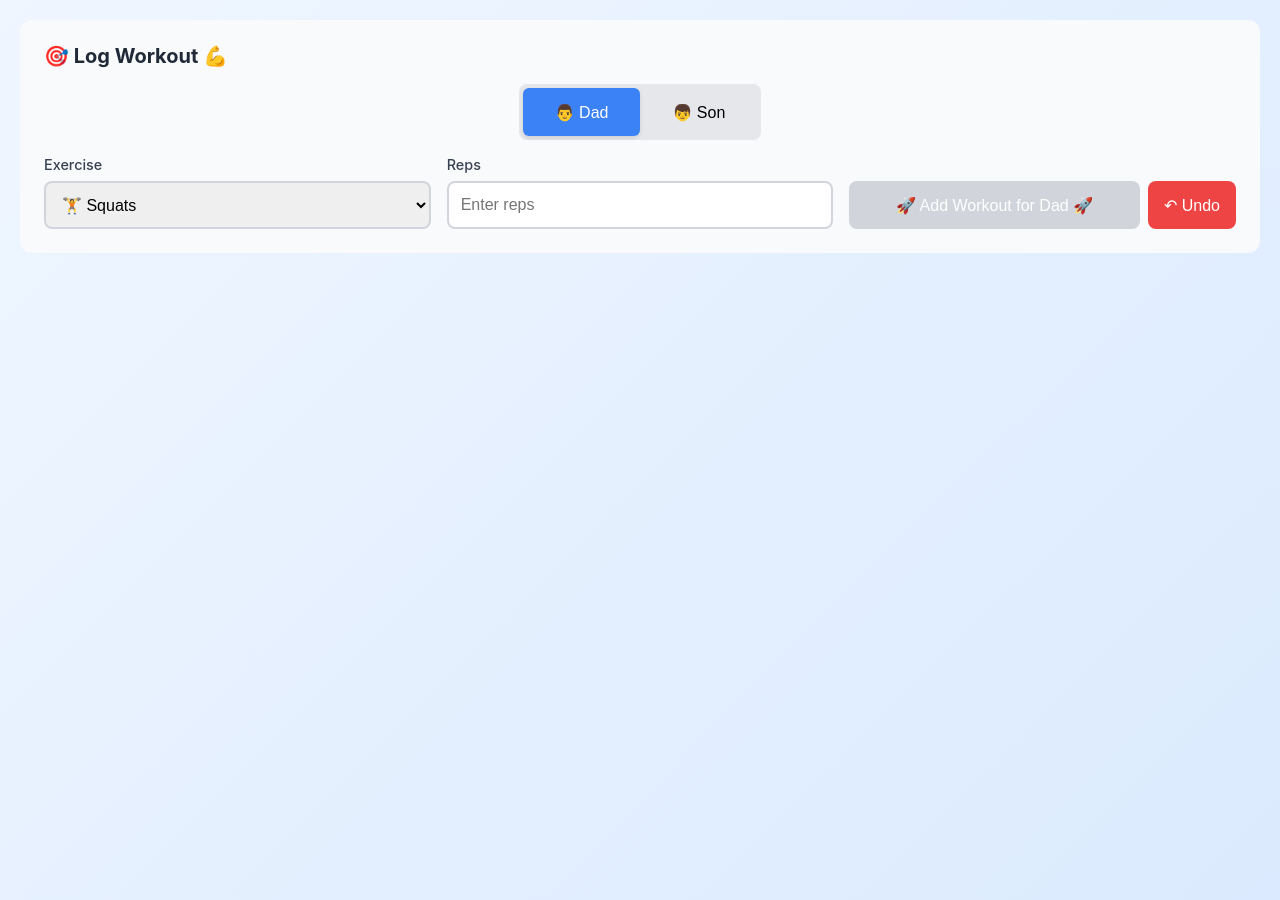
Scenario: WorkoutLogger › should enable add button only when reps are valid
Expected: the button "🚀 Add Workout for Dad 🚀" is disabled, [849, 181, 1140, 229]
# Enter valid reps
In the number field labelled "Reps": (640, 205) [447, 181, 833, 229], type "10"
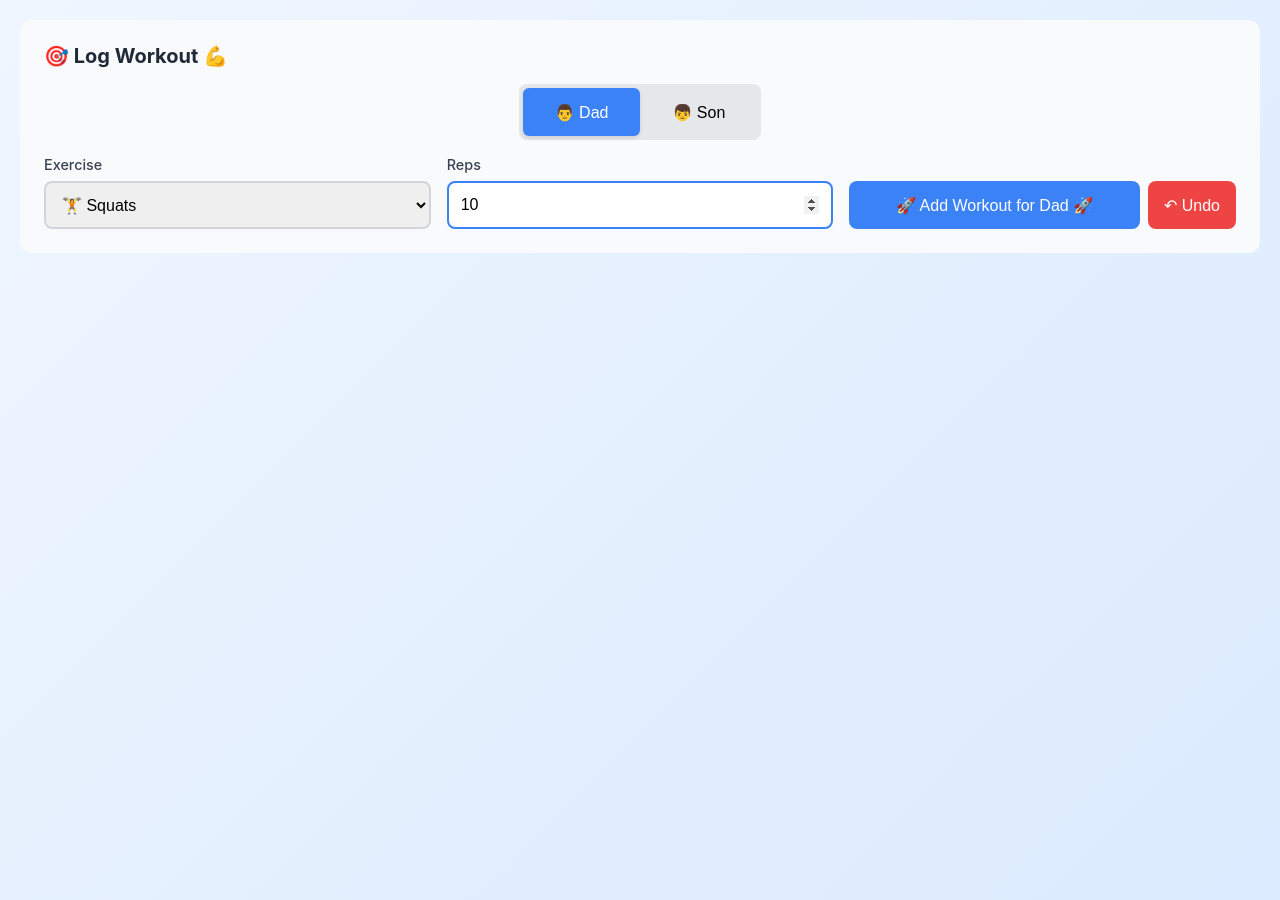
Now the button "🚀 Add Workout for Dad 🚀" is enabled, box [849, 181, 1140, 229]
# Clear reps
Clear the number field labelled "Reps": (640, 205) [447, 181, 833, 229]
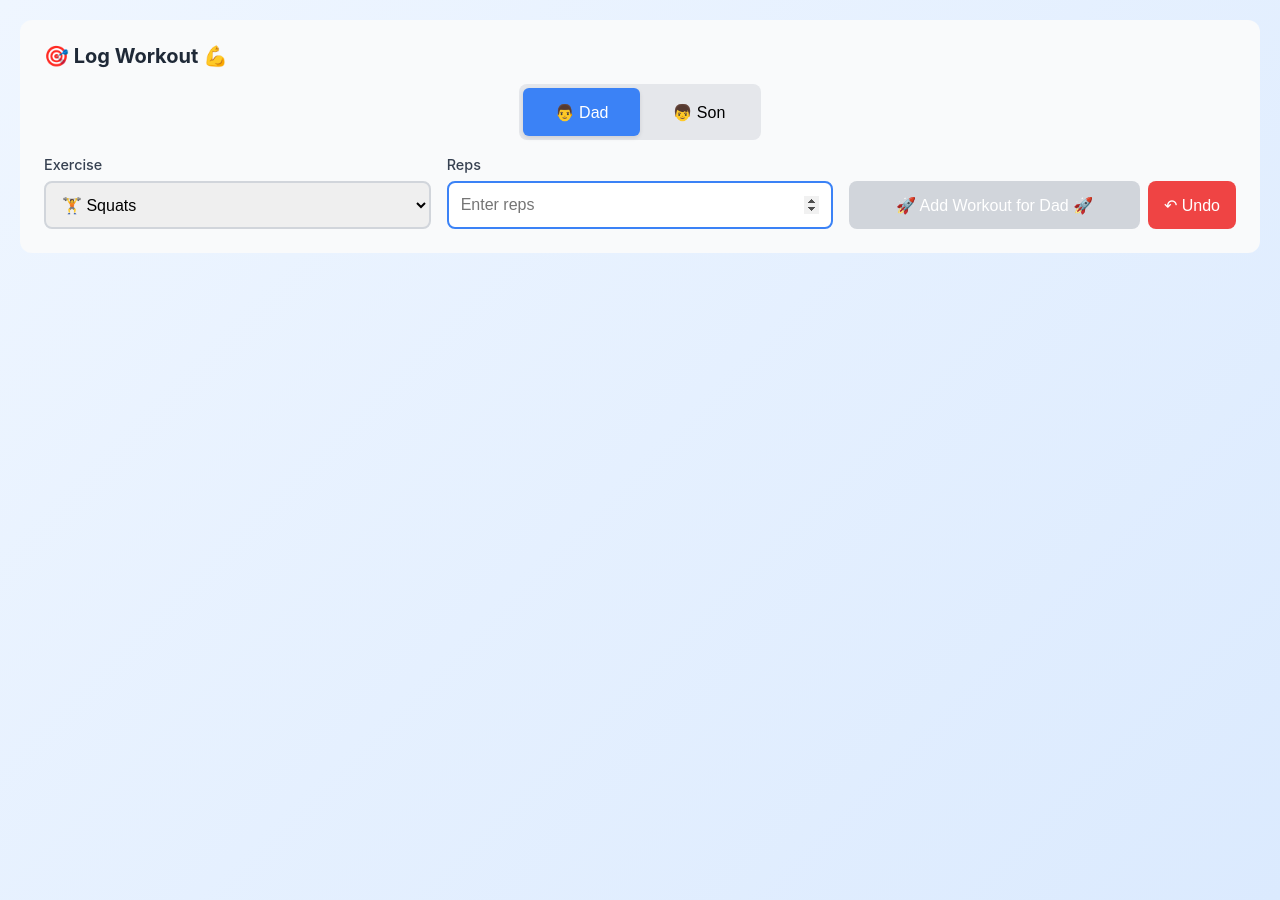
Now the button "🚀 Add Workout for Dad 🚀" is disabled, box [849, 181, 1140, 229]
